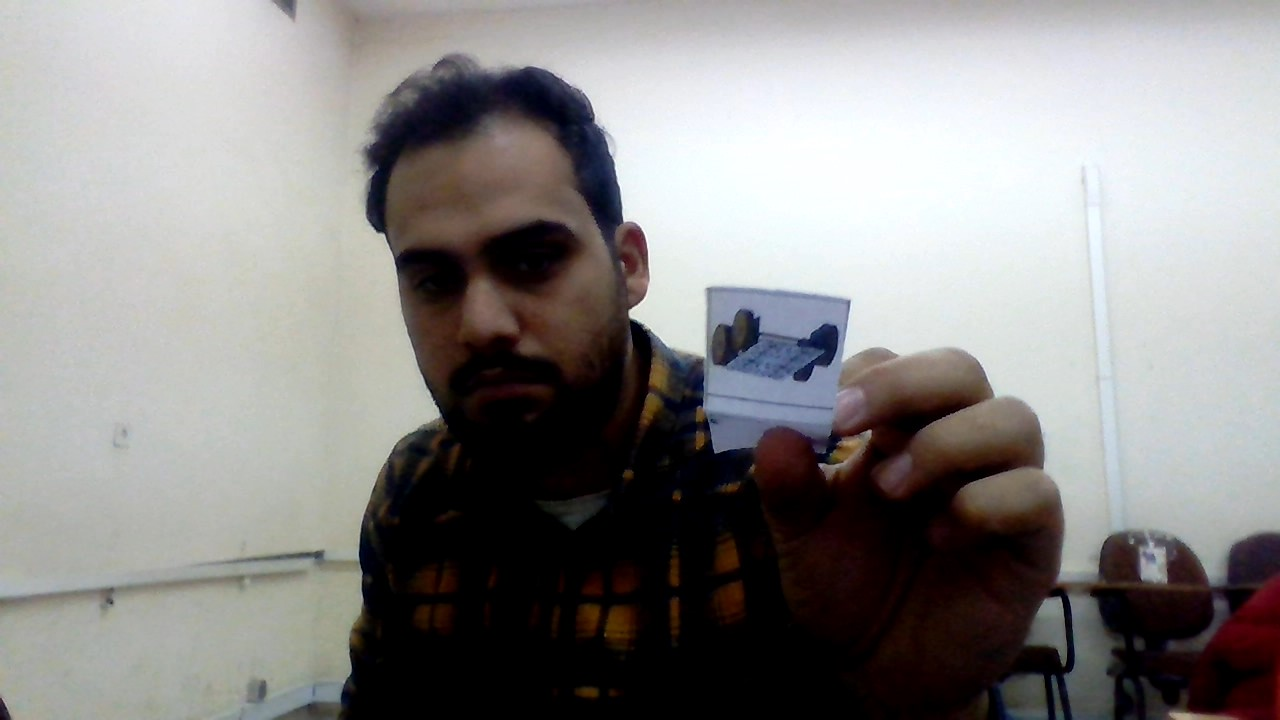pg: (710, 293, 845, 393)
